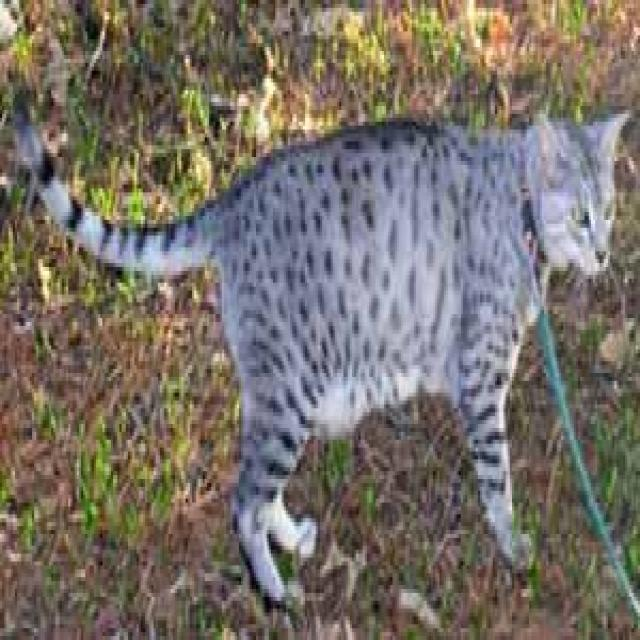Egyptian_Mau: (531, 110, 627, 275)
